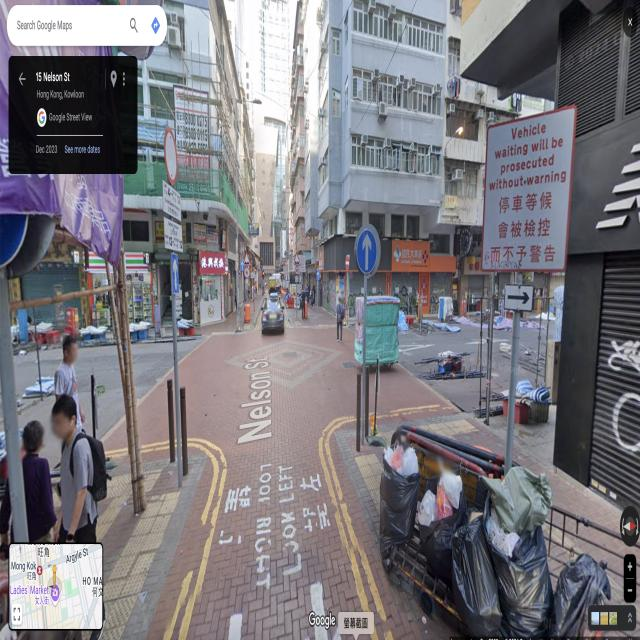Direction-Sign: (171, 253, 180, 293), (241, 261, 244, 270), (317, 271, 319, 281)
Order-Sign: (484, 107, 576, 268), (506, 283, 533, 315), (358, 231, 378, 274), (163, 181, 182, 222), (164, 129, 178, 181), (164, 217, 183, 253), (300, 254, 305, 272), (346, 256, 350, 270), (244, 268, 250, 277), (251, 268, 255, 278), (295, 266, 299, 274), (295, 276, 299, 283), (299, 292, 302, 301), (286, 292, 289, 300), (245, 280, 248, 284)
Warning-Sign: (243, 252, 251, 266), (293, 252, 300, 265)
